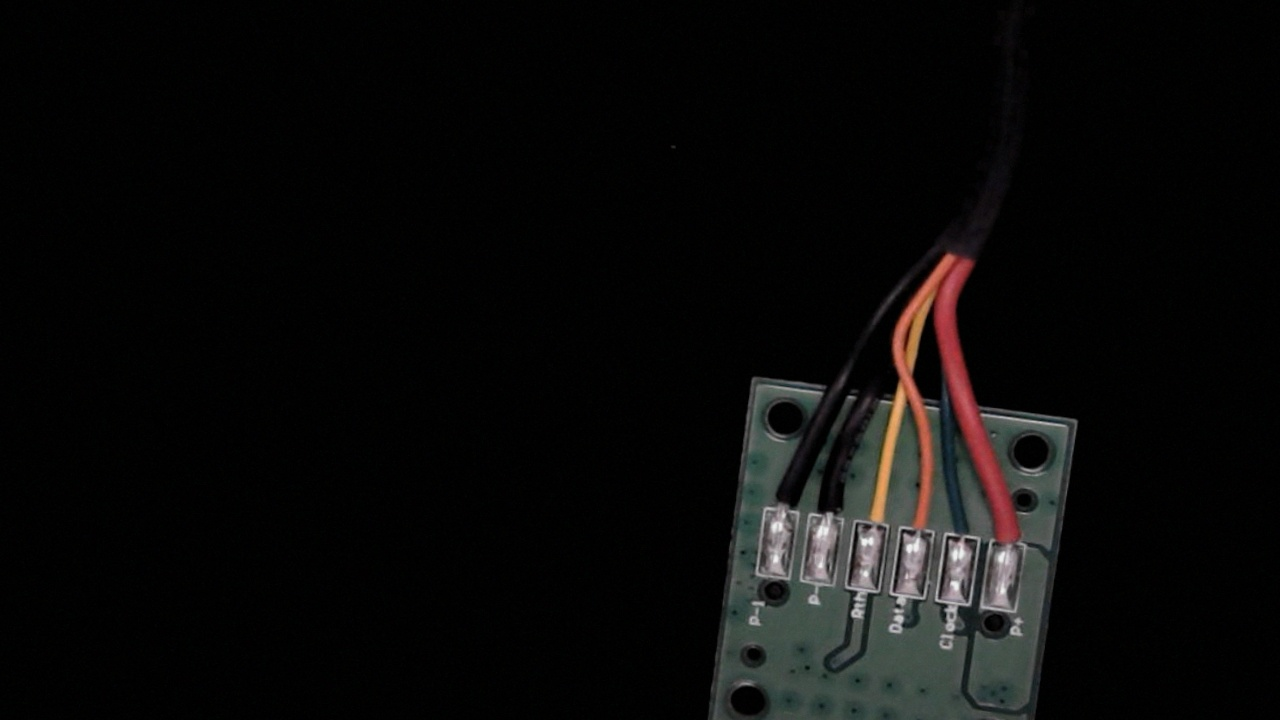Black: (807, 460, 854, 534)
Black1: (760, 449, 810, 528)
Green: (942, 493, 987, 558)
Orange: (897, 475, 947, 551)
Red: (985, 488, 1037, 563)
Yellow: (852, 468, 899, 543)
